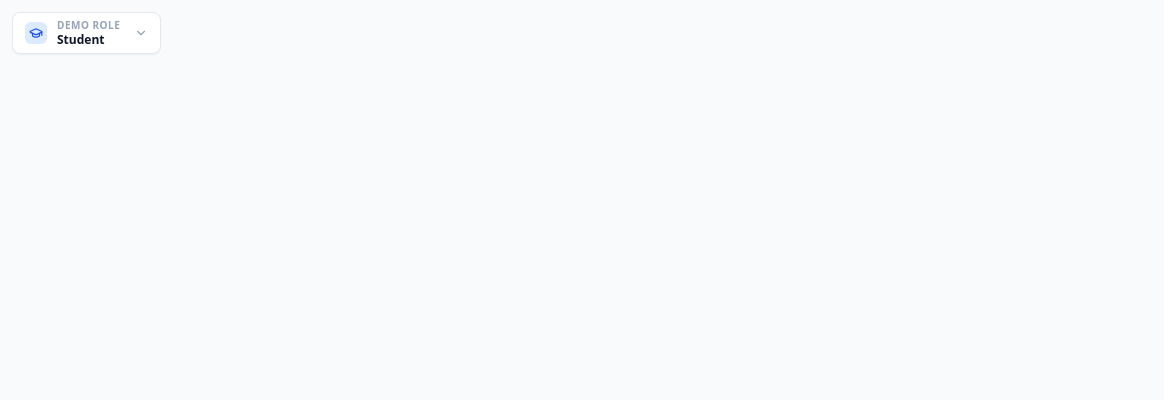
Role Selection & Immediate Switching (Bug 1 Fix) › should switch role and immediately update shared state without login prompt
The image size is (1164, 400).
Later steps or results of the test are not shown.
Click the button with aria-label "Switch demonstration role and profile" at (87, 33), box [12, 12, 161, 54]
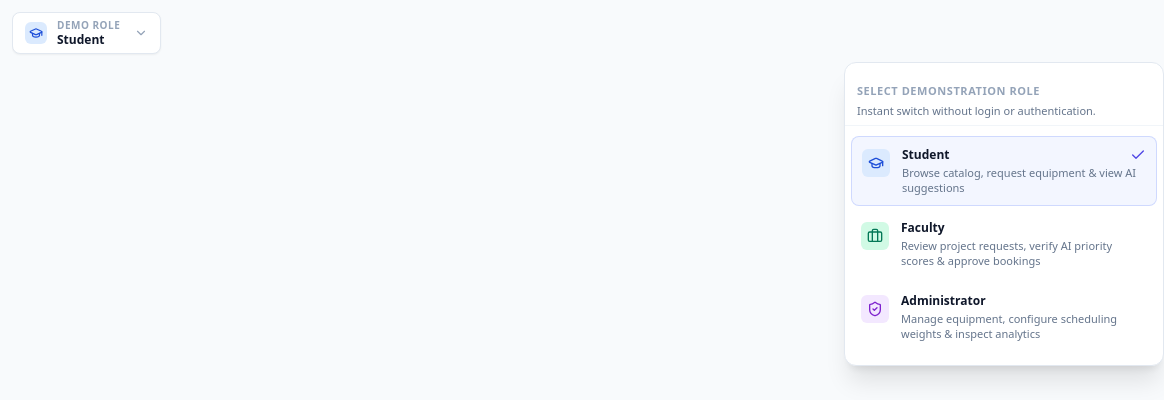
expect the text "Faculty" is shown: met, box [901, 220, 945, 236]
